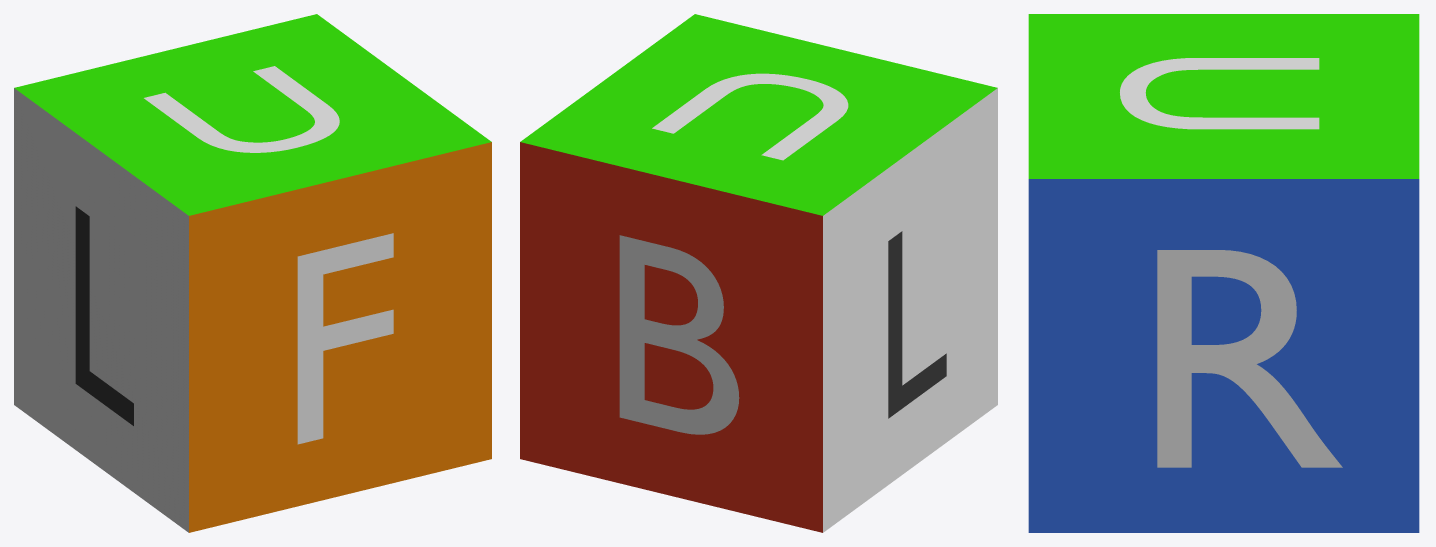
The model's file is marker.glb.
The picture shows the model from 3 angles, left to right: view 1: azimuth 30°, elevation 25°; view 2: azimuth 150°, elevation 25°; view 3: azimuth 270°, elevation 25°; orthographic projection. The views are drawn at different scales.
Parts seen in each view (by area): view 1: Cube, Text, Text.001, Text.004; view 2: Cube, Text.002, Text.001, Text.004; view 3: Cube, Text.006, Text.001.
Boxes of the visible parts, <box> form: Cube: <box>14,14,491,532</box>; Text: <box>297,233,393,444</box>; Text.001: <box>144,66,339,152</box>; Text.004: <box>75,206,133,425</box>; Cube: <box>520,14,997,532</box>; Text.002: <box>619,235,739,434</box>; Text.001: <box>652,73,848,160</box>; Text.004: <box>888,231,946,418</box>; Cube: <box>1028,14,1419,532</box>; Text.006: <box>1157,250,1342,467</box>; Text.001: <box>1120,58,1319,129</box>.
Size of the model in its own units: 1.09 by 1.09 by 1.09.
